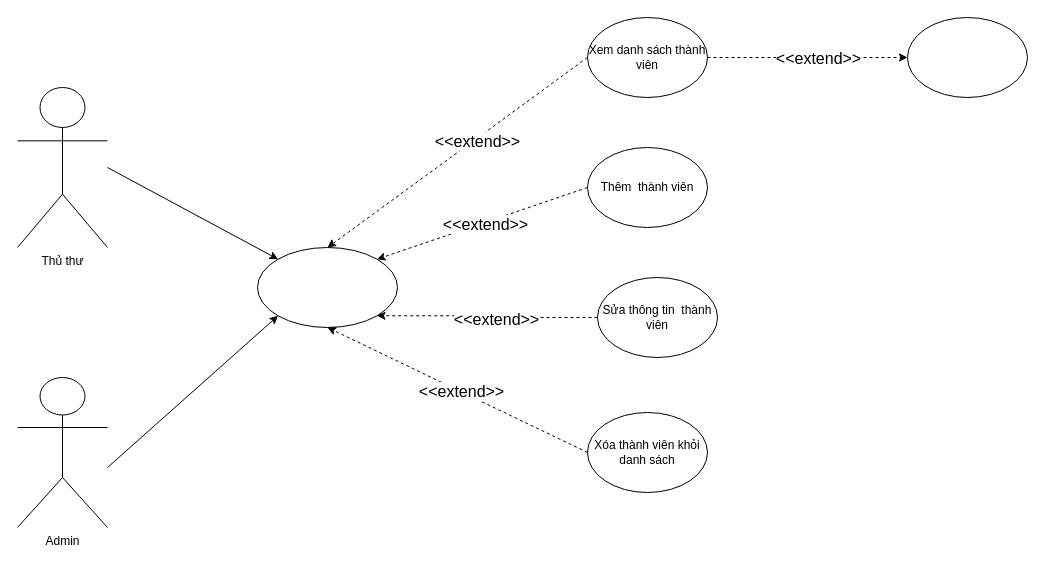
The diagram is 1045 pixels wide and 566 high, and some of its shapes have lost their labels. The shapes that lost their labels are listed below. From the top down, each one's centre as x and y in pixels, then its label:
At [967,57]: "Tìm kiếm thành viên".
At [327,287]: "Xử lí thông tin thành viên".
